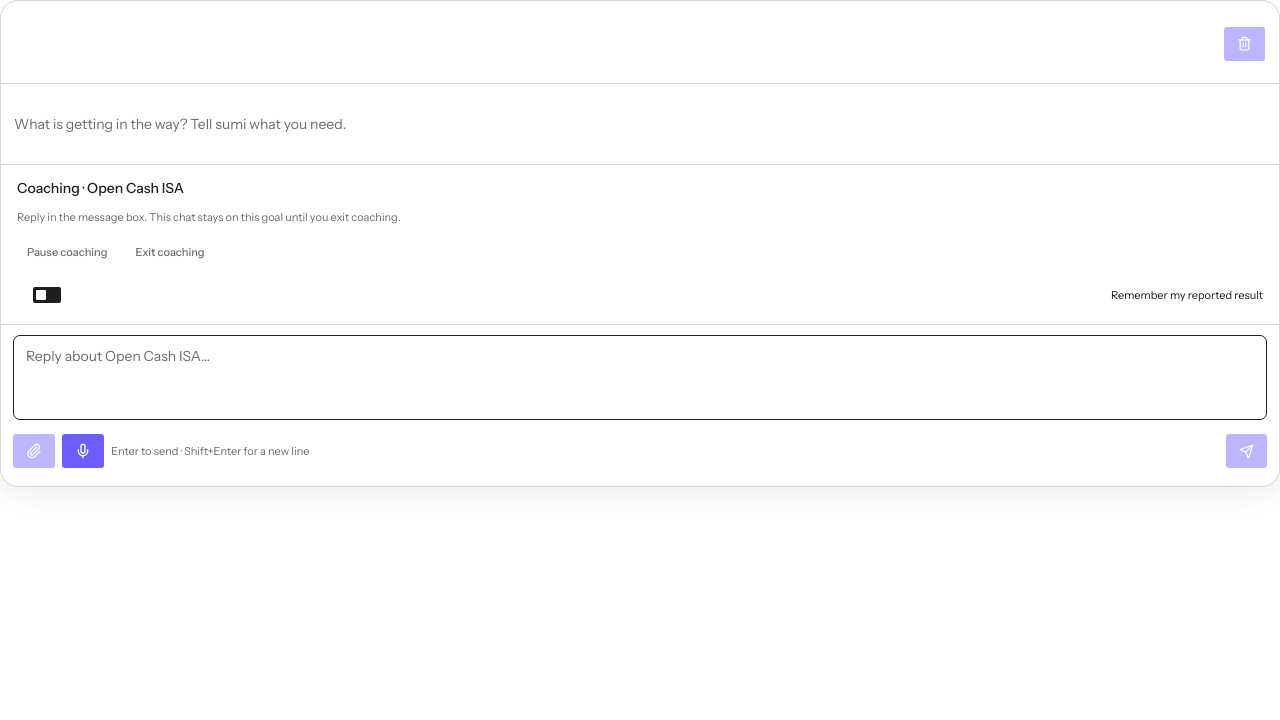
it: keeps pause available while awaiting the provider and waits for the next question before another reply
Check: the text "Coaching · Open Cash ISA" is shown, box [17,179,184,197]
Step 1. Type "I have not done it" into the text box → (640, 378), box [13,335,1267,420]
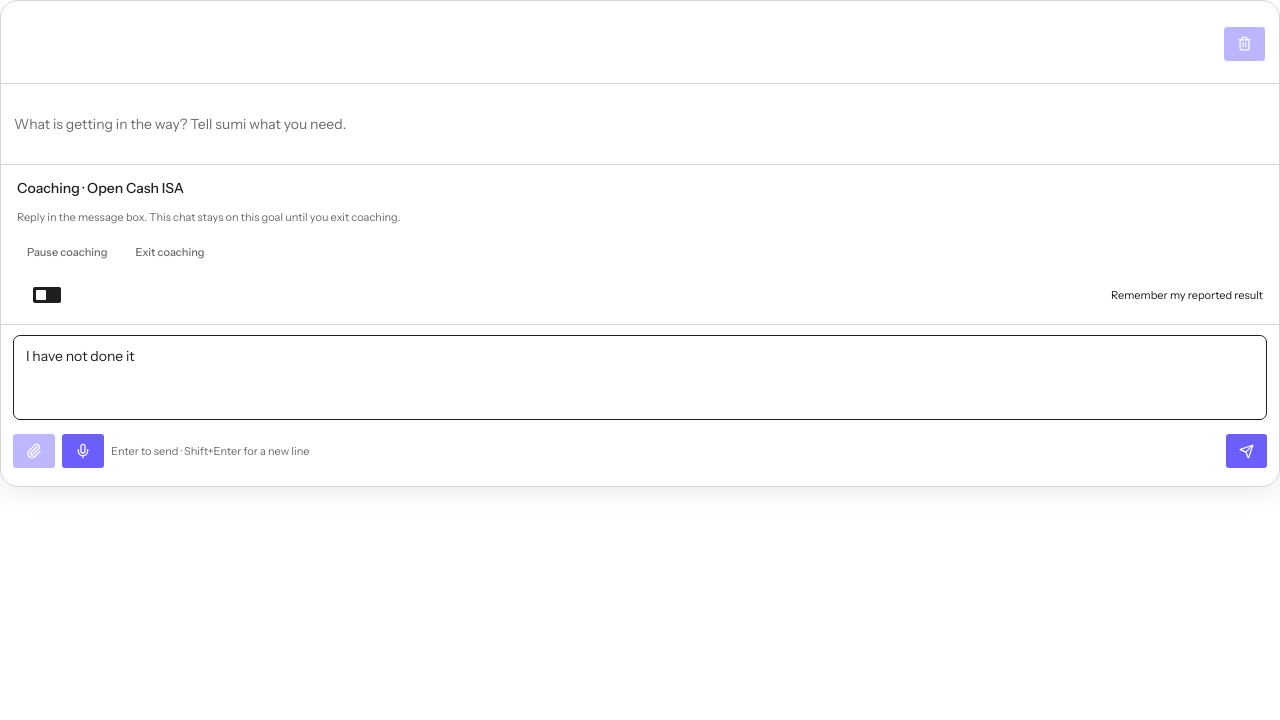
Step 2. Click the button named "Send message" → (1246, 451), box [1226,434,1267,468]
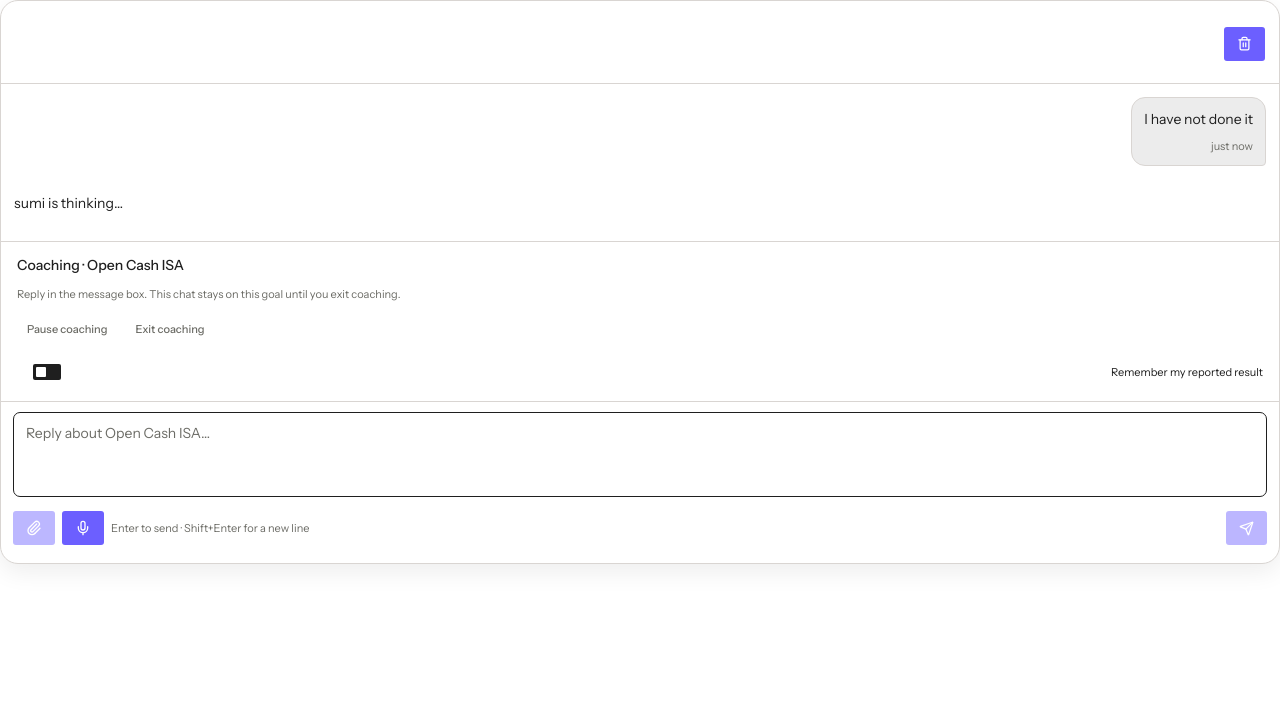
Check: the text box is disabled, box [13,412,1267,497]
Step 3. Click the button "Pause coaching" → (67, 330), box [17,313,118,347]
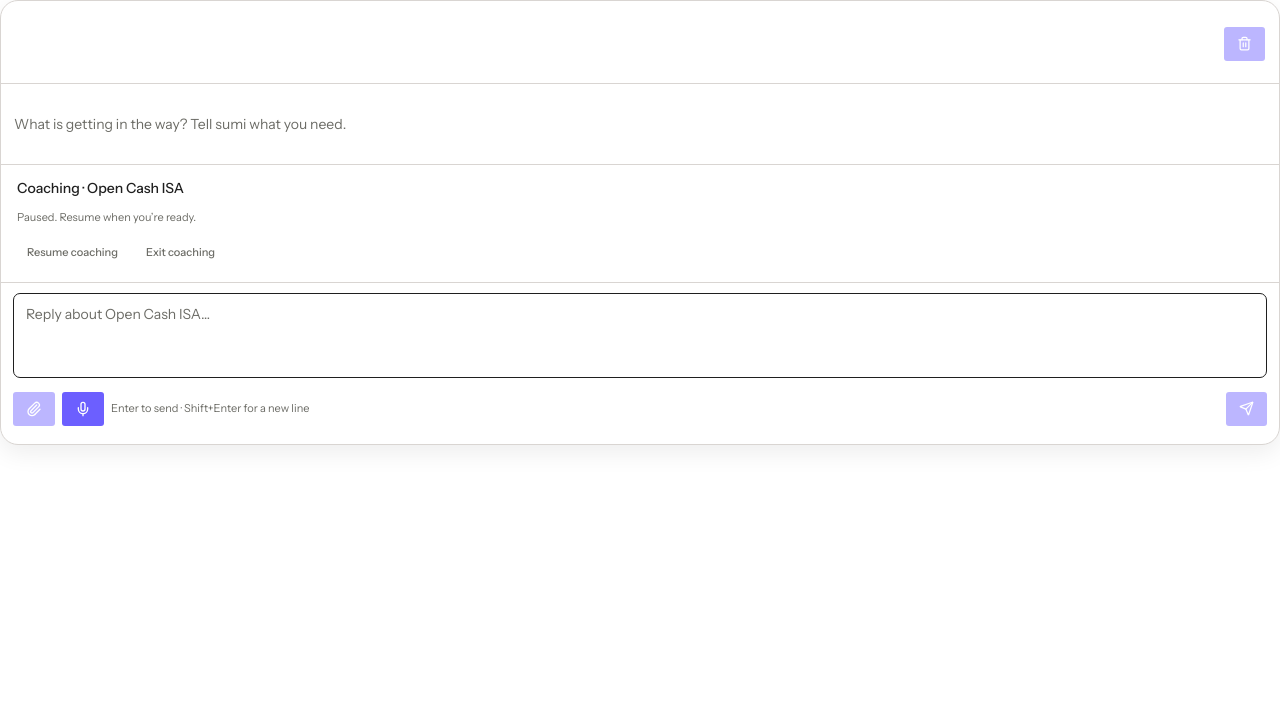
Check: the button "Resume coaching" is shown, box [17,236,128,270]
Check: the text box is enabled, box [13,293,1267,378]
